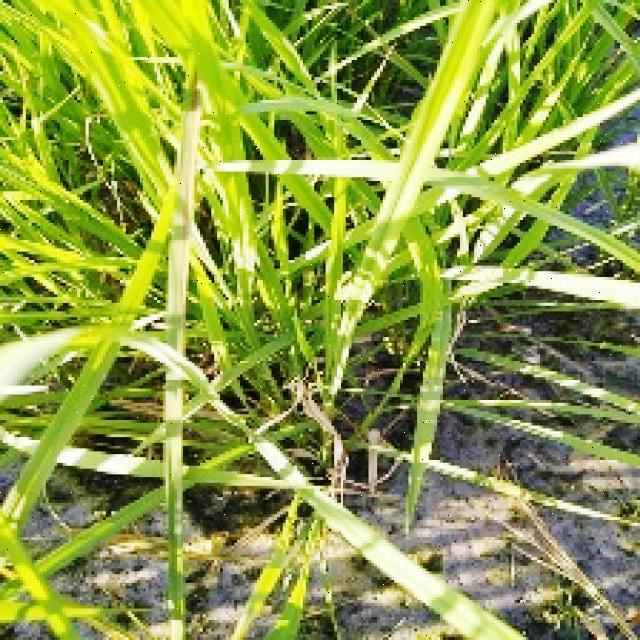health: (0, 0, 391, 400)
